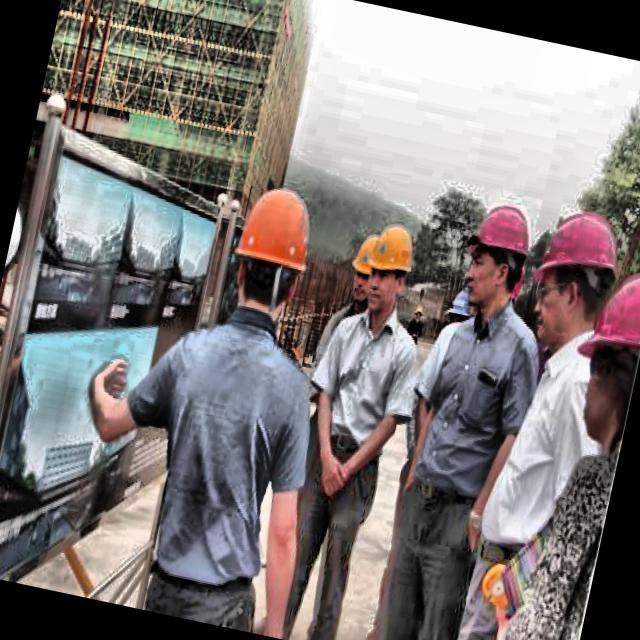helmet: (215, 176, 328, 342), (522, 202, 630, 362), (557, 249, 640, 454), (456, 190, 540, 322), (354, 214, 423, 323), (339, 232, 383, 314)
